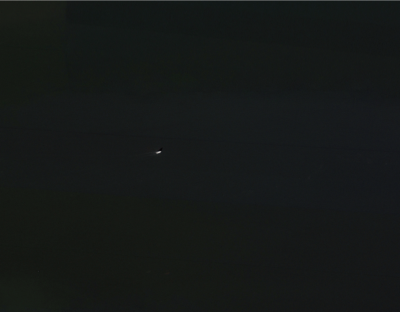boat: (156, 151, 162, 154)
